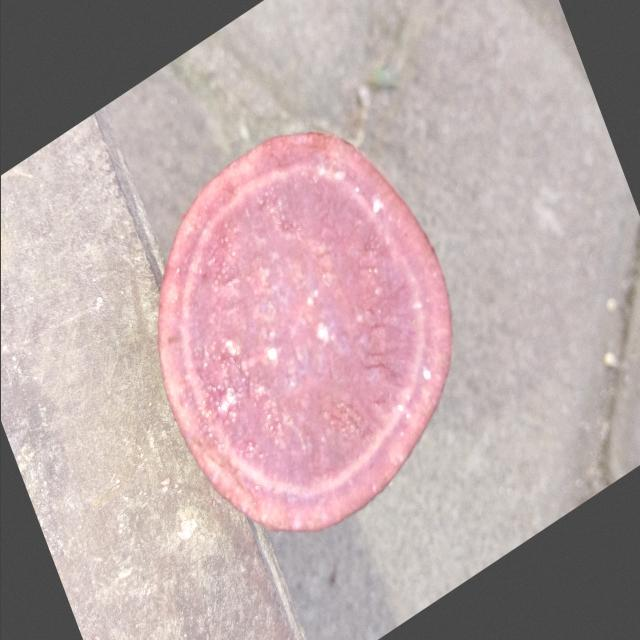Healthy Sweet Potato: (158, 133, 451, 532)
